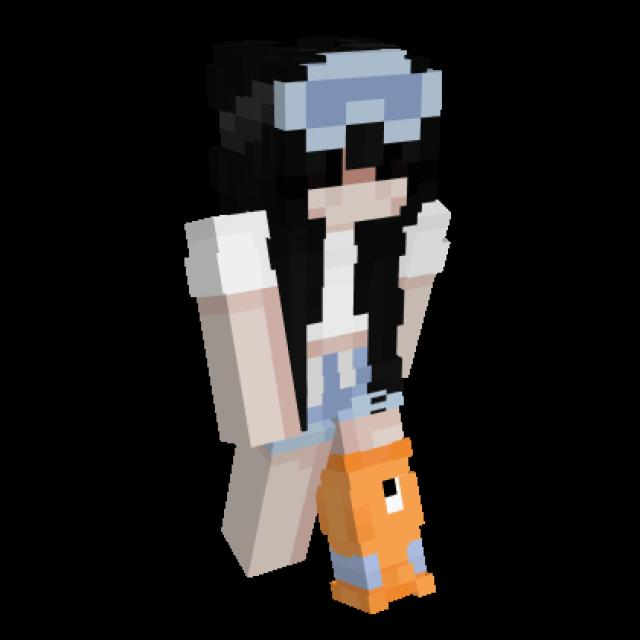Player: (186, 41, 450, 614)
